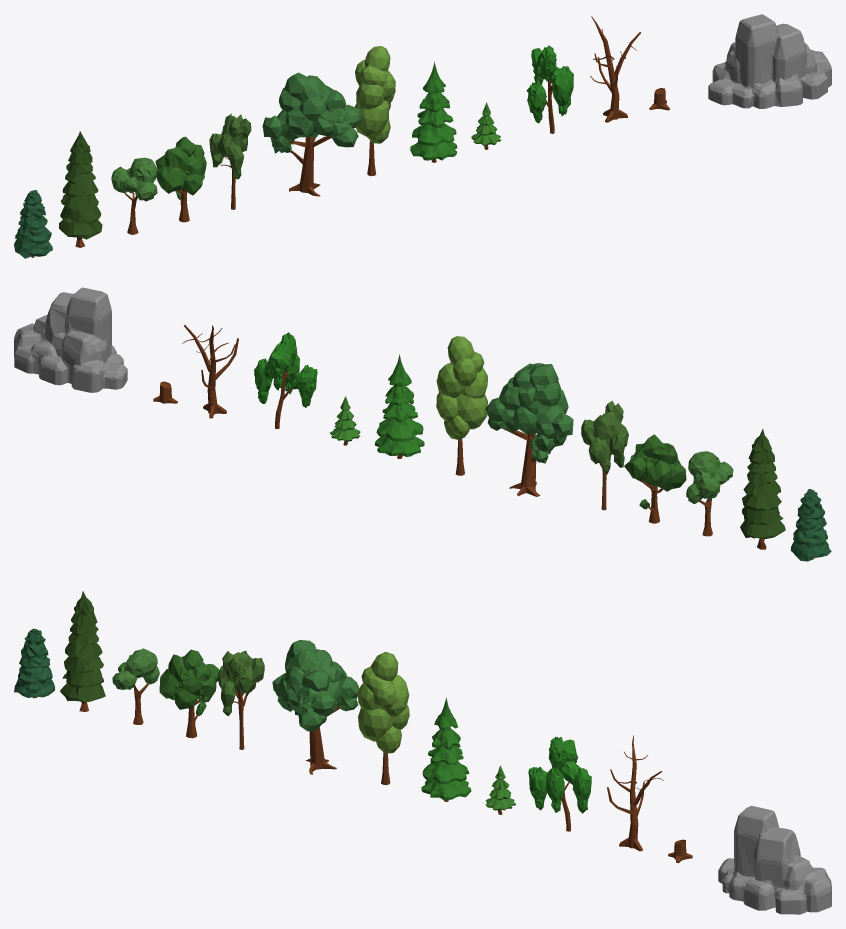
File: forest_elements.fbx
3 views of the same model, one above another, from view 1: azimuth 30°, elevation 25°; view 2: azimuth 150°, elevation 25°; view 3: azimuth 330°, elevation 25° (orthographic). The views are drawn at different scales.
Visible parts, largest first — view 1: Rock_1_, _6_tree, _7_tree, _2_tree, _8_tree, _4_tree, _10_tree, _5_tree, _1_tree, _3_tree, _11_tree, _9_tree; view 2: Rock_1_, _6_tree, _7_tree, _2_tree, _8_tree, _10_tree, _4_tree, _5_tree, _3_tree, _1_tree, _11_tree, _9_tree; view 3: Rock_1_, _6_tree, _7_tree, _2_tree, _10_tree, _8_tree, _4_tree, _5_tree, _1_tree, _3_tree, _11_tree, _9_tree.
Boxes of the visible parts, bbox=[...] form: Rock_1_: bbox=[708, 14, 831, 108]; _6_tree: bbox=[262, 72, 361, 196]; _7_tree: bbox=[355, 46, 395, 176]; _2_tree: bbox=[59, 131, 102, 247]; _8_tree: bbox=[410, 61, 457, 162]; _4_tree: bbox=[155, 136, 206, 222]; _10_tree: bbox=[526, 45, 573, 133]; _5_tree: bbox=[209, 113, 251, 209]; _1_tree: bbox=[14, 190, 52, 258]; _3_tree: bbox=[111, 157, 157, 234]; _11_tree: bbox=[590, 16, 640, 122]; _9_tree: bbox=[471, 102, 500, 149]; Rock_1_: bbox=[14, 287, 127, 392]; _6_tree: bbox=[485, 363, 573, 496]; _7_tree: bbox=[436, 336, 487, 475]; _2_tree: bbox=[740, 429, 785, 549]; _8_tree: bbox=[374, 354, 424, 458]; _10_tree: bbox=[254, 332, 317, 428]; _4_tree: bbox=[624, 434, 686, 523]; _5_tree: bbox=[581, 400, 628, 510]; _3_tree: bbox=[686, 451, 733, 536]; _1_tree: bbox=[790, 489, 831, 561]; _11_tree: bbox=[182, 325, 238, 418]; _9_tree: bbox=[330, 396, 360, 445]; Rock_1_: bbox=[718, 805, 831, 914]; _6_tree: bbox=[272, 640, 359, 774]; _7_tree: bbox=[358, 651, 409, 785]; _2_tree: bbox=[60, 591, 105, 711]; _10_tree: bbox=[528, 737, 591, 831]; _8_tree: bbox=[421, 697, 471, 801]; _4_tree: bbox=[159, 649, 219, 738]; _5_tree: bbox=[217, 650, 264, 749]; _1_tree: bbox=[14, 628, 54, 698]; _3_tree: bbox=[112, 648, 159, 724]; _11_tree: bbox=[607, 735, 663, 851]; _9_tree: bbox=[485, 765, 515, 814].
Size of the model in its own units: 1798 by 282 by 179.
